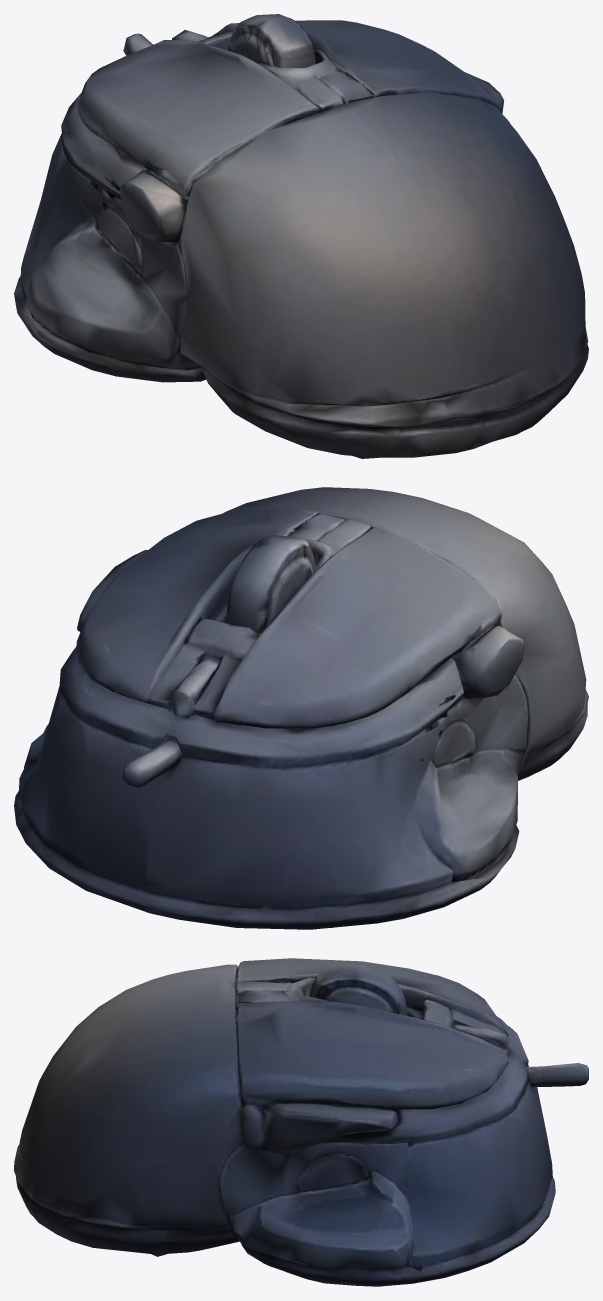
File: computer_mouse.glb
The picture shows the model from 3 angles, top to bottom: view 1: azimuth 30°, elevation 25°; view 2: azimuth 150°, elevation 25°; view 3: azimuth 270°, elevation 25°; orthographic projection. The views are drawn at different scales.
Parts seen in each view (by area): view 1: tripo_node_a1c5701c-17e2-4040-8731-c5fab8f9f896; view 2: tripo_node_a1c5701c-17e2-4040-8731-c5fab8f9f896; view 3: tripo_node_a1c5701c-17e2-4040-8731-c5fab8f9f896.
Part boxes in pixels (bbox=[...]): tripo_node_a1c5701c-17e2-4040-8731-c5fab8f9f896: bbox=[14, 14, 588, 458]; tripo_node_a1c5701c-17e2-4040-8731-c5fab8f9f896: bbox=[14, 487, 588, 929]; tripo_node_a1c5701c-17e2-4040-8731-c5fab8f9f896: bbox=[14, 958, 588, 1286].
Bounding box in the file's own units: 0.7235 × 0.4491 × 0.9779.
Materials: 1 (1 with a texture image).
